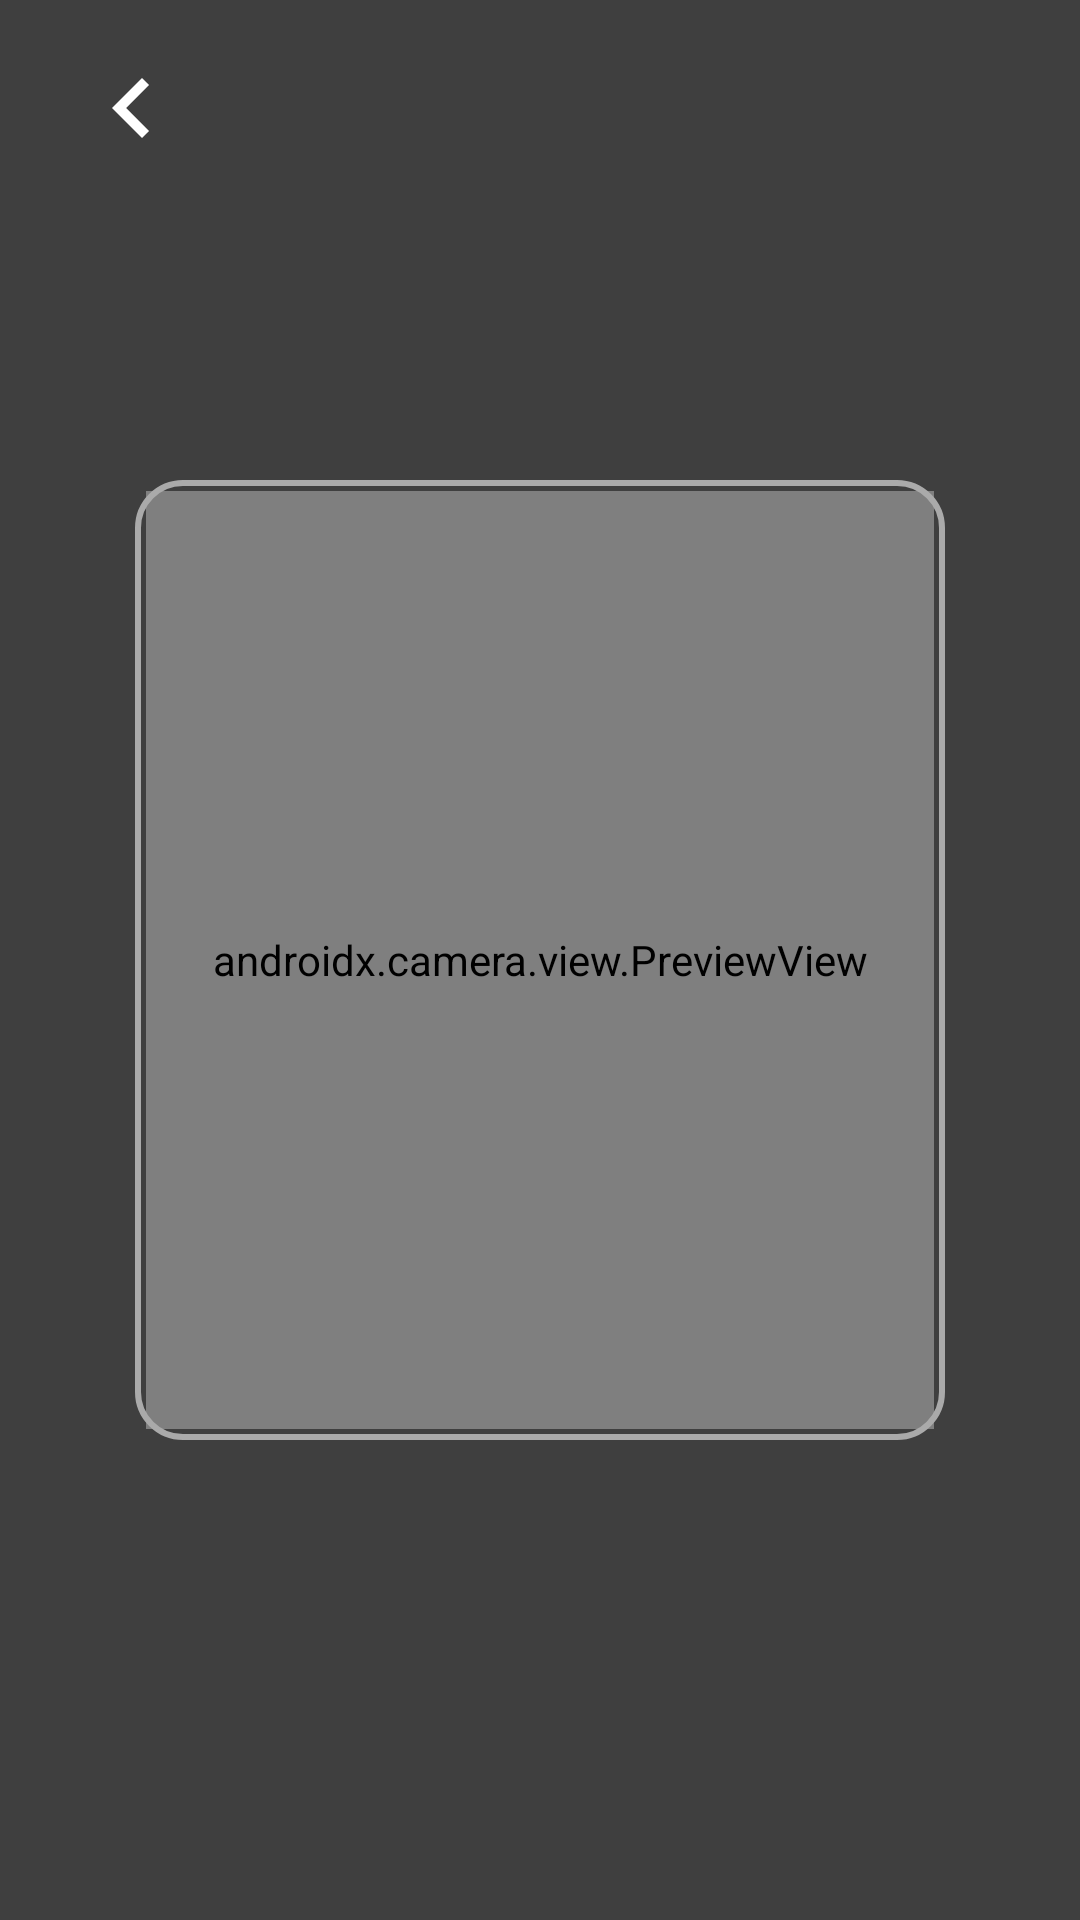

Named icons in this screenshot (1080 x 1920) and their centers, [x,y]:
left: [130,108]
